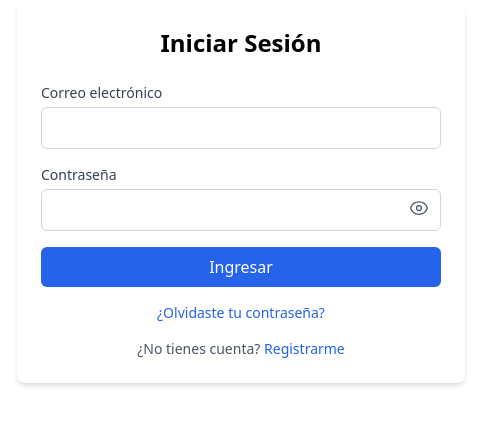
Test case: LoginForm › displays error message when login fails
The image size is (483, 440).
Type "test@example.com" into the field labelled "Correo electrónico" at (241, 128), box [41,107,441,149]
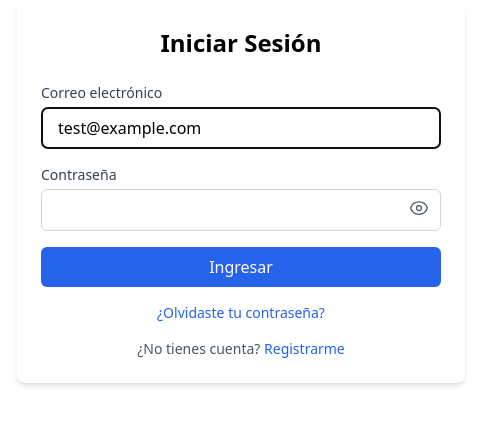
Type "wrongpassword" into the password field labelled "Contraseña" at (241, 210), box [41,189,441,231]
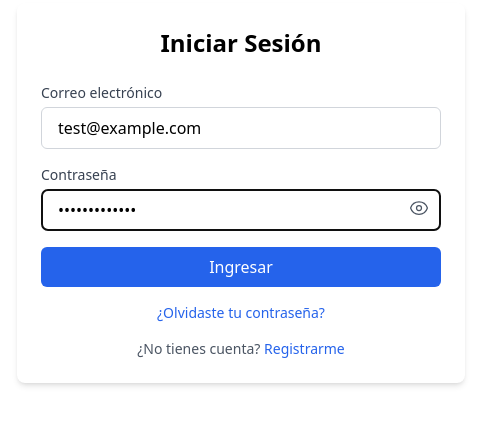
Click the button "Ingresar" at (241, 267), box [41,247,441,287]
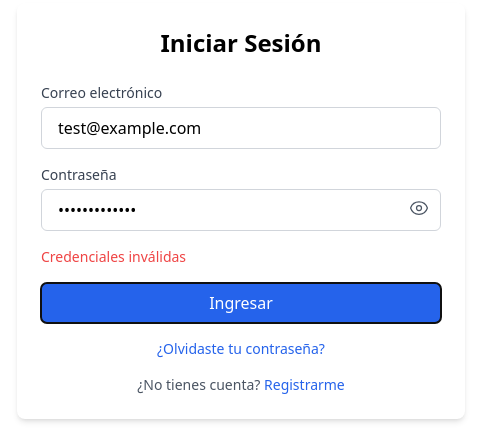
Check: the text "Credenciales inválidas" is shown, box [41,247,186,266]
